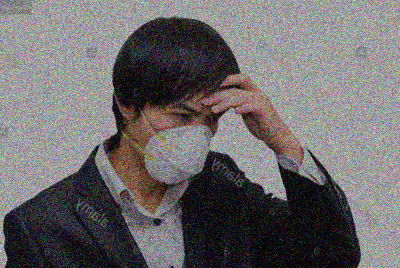with_mask: (130, 101, 217, 185)
